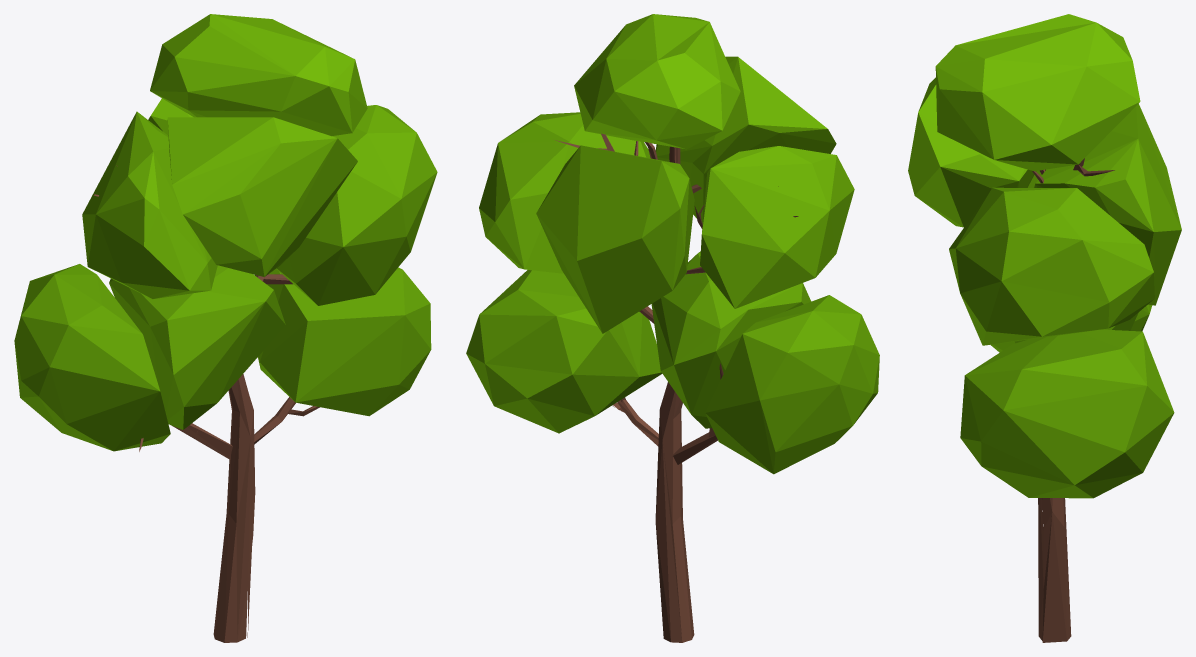
The model's file is estilizada-NormalTree_2.glb.
3 renders of one model, left to right at view 1: azimuth 30°, elevation 25°; view 2: azimuth 150°, elevation 25°; view 3: azimuth 270°, elevation 25°, orthographic. The views are drawn at different scales.
Visible parts, largest first — view 1: NormalTree_2.001; view 2: NormalTree_2.001; view 3: NormalTree_2.001.
Boxes of the visible parts, left/top/right/bottom form: NormalTree_2.001: left=14, top=14, right=437, bottom=642; NormalTree_2.001: left=466, top=14, right=879, bottom=642; NormalTree_2.001: left=908, top=14, right=1181, bottom=642.
Size of the model in its own units: 4.37 by 6.49 by 2.61.
